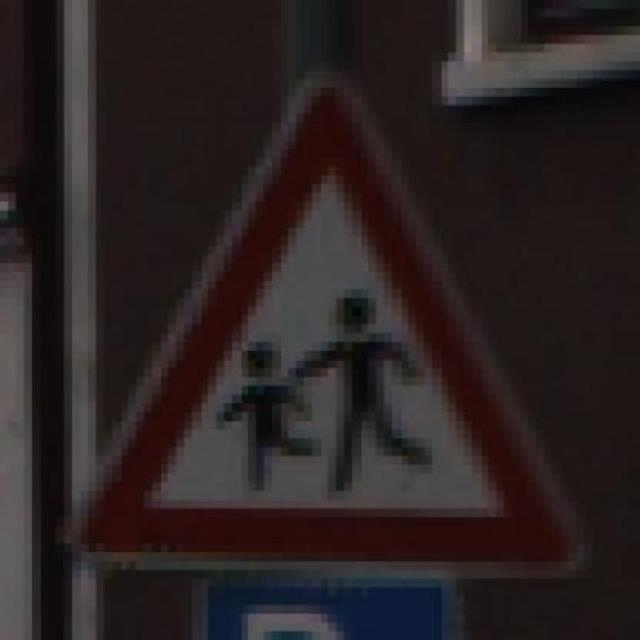Beware of children: (64, 52, 584, 605)
